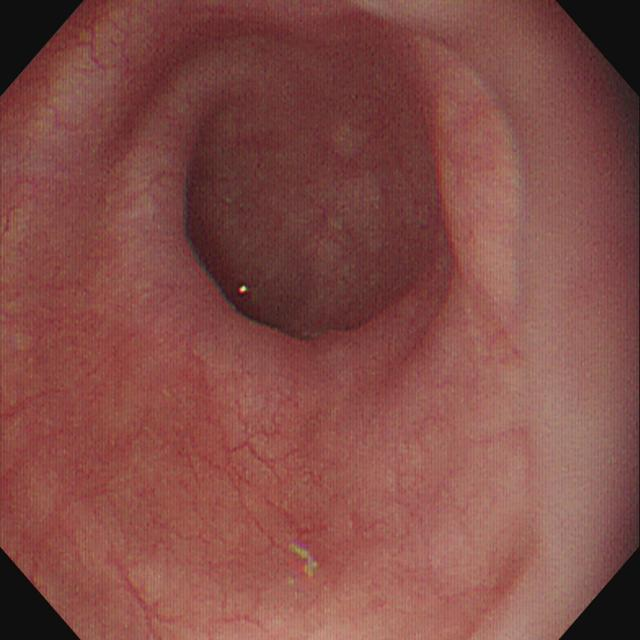U: (292, 542, 322, 580)
